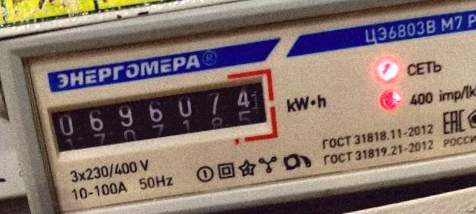0: (54, 110, 76, 136), (174, 91, 193, 118)
4: (232, 83, 251, 107)
5: (236, 108, 254, 125)
6: (145, 95, 166, 123), (85, 105, 105, 132)
7: (204, 88, 224, 115)
9: (115, 100, 134, 128)
screen: (35, 62, 282, 164)
